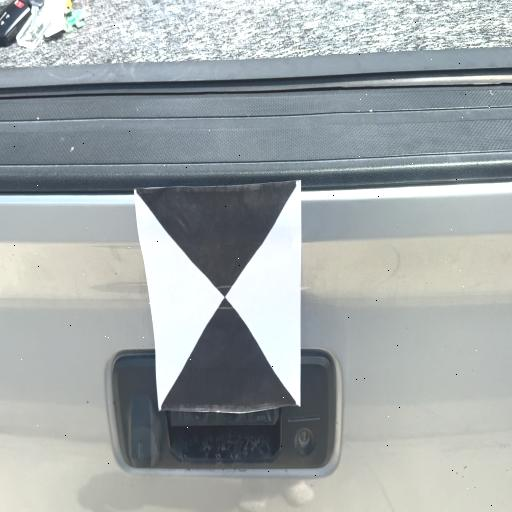target: (134, 183, 301, 409)
